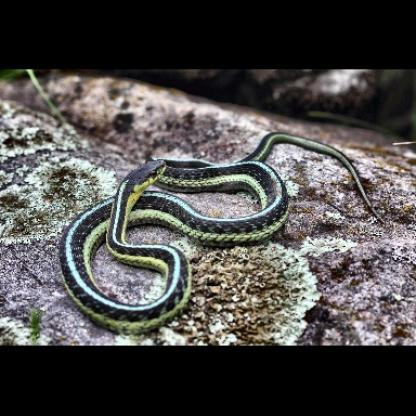Snake: (54, 125, 368, 332)
